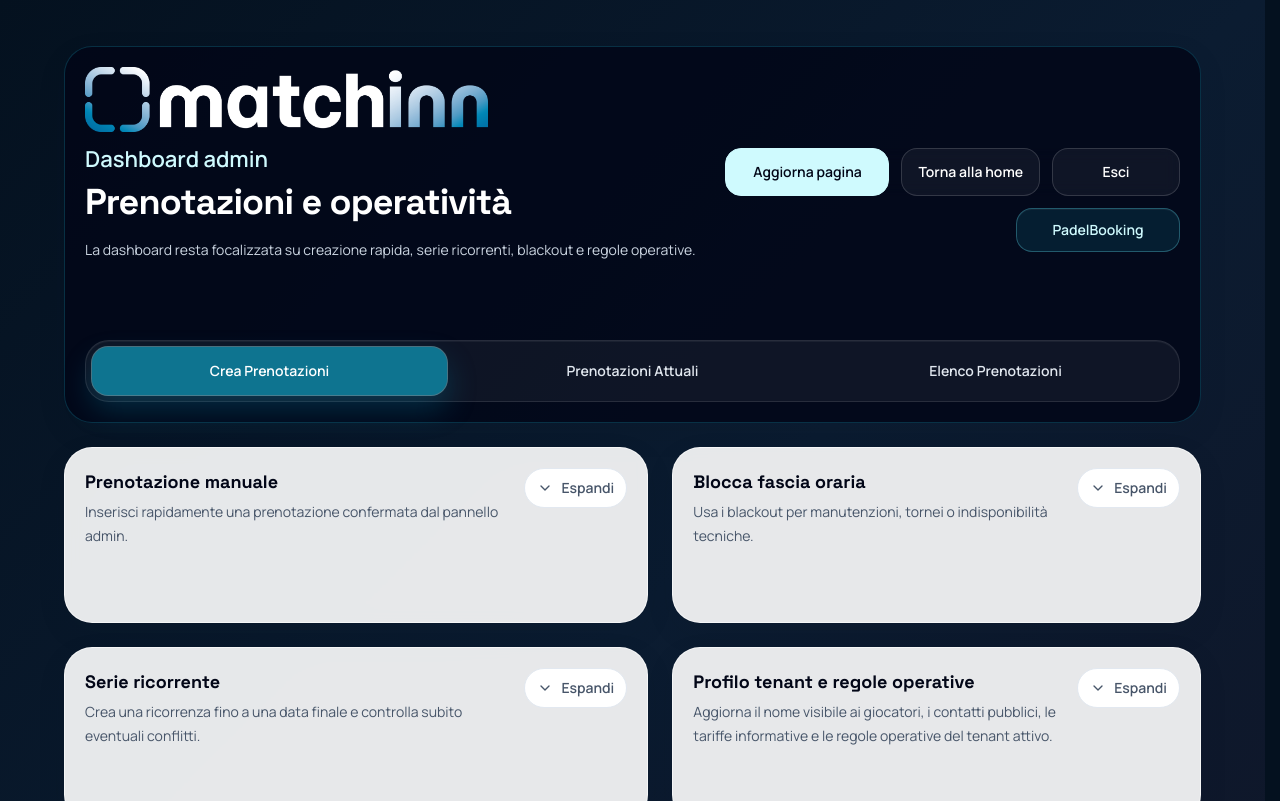
Test case: AdminDashboardPage › lists issued community invites with status and lets admin revoke an active link
Expected: the text "Dashboard admin" is shown, x1=85 y1=144 x2=268 y2=174
Click the button with aria-label "Espandi Profilo tenant e regole operative" at (1129, 688), box x1=1077 y1=668 x2=1180 y2=708
(page scrolled)
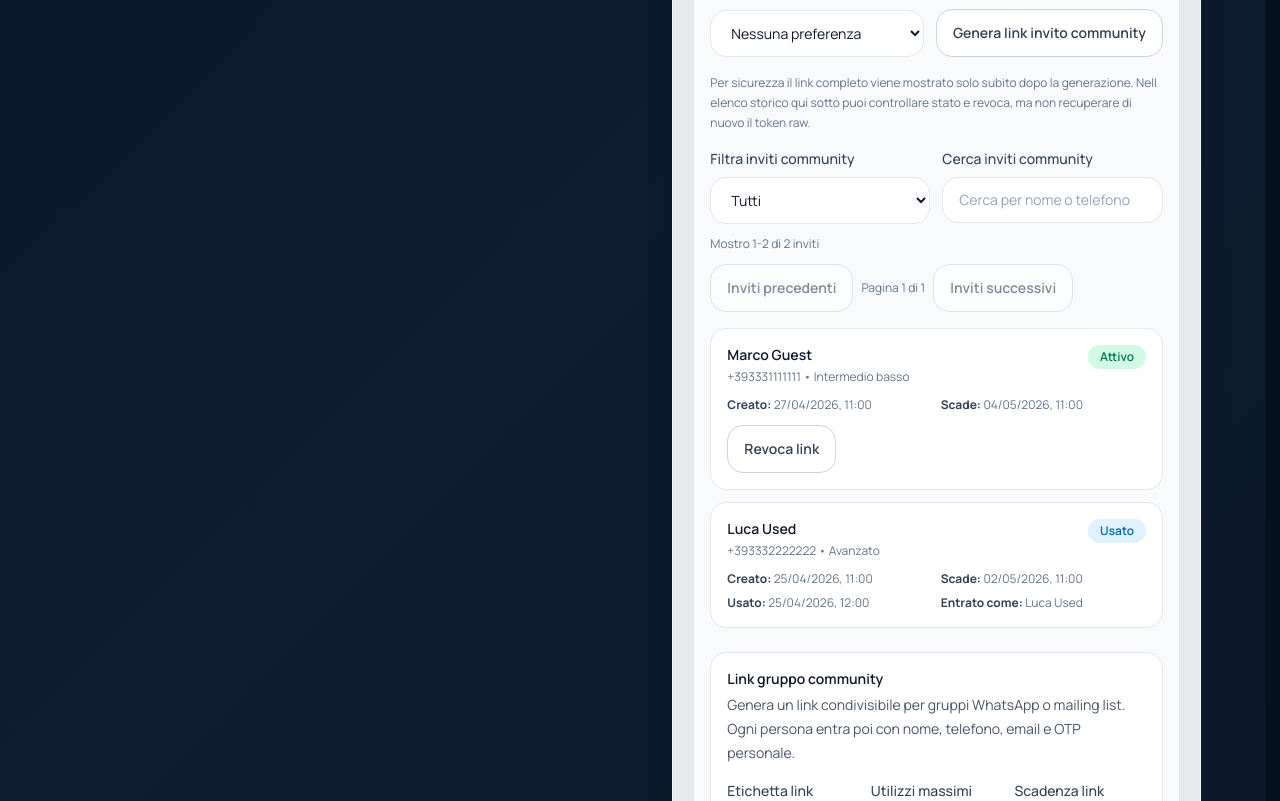
Expected: the text "Marco Guest" is shown, x1=727 y1=345 x2=812 y2=364
Expected: the text "Luca Used" is shown, x1=727 y1=519 x2=796 y2=538
Expected: the text "Attivo" is shown, x1=1088 y1=345 x2=1146 y2=369
Click the button with aria-label "Revoca link Marco Guest" at (782, 449), box x1=727 y1=425 x2=836 y2=473
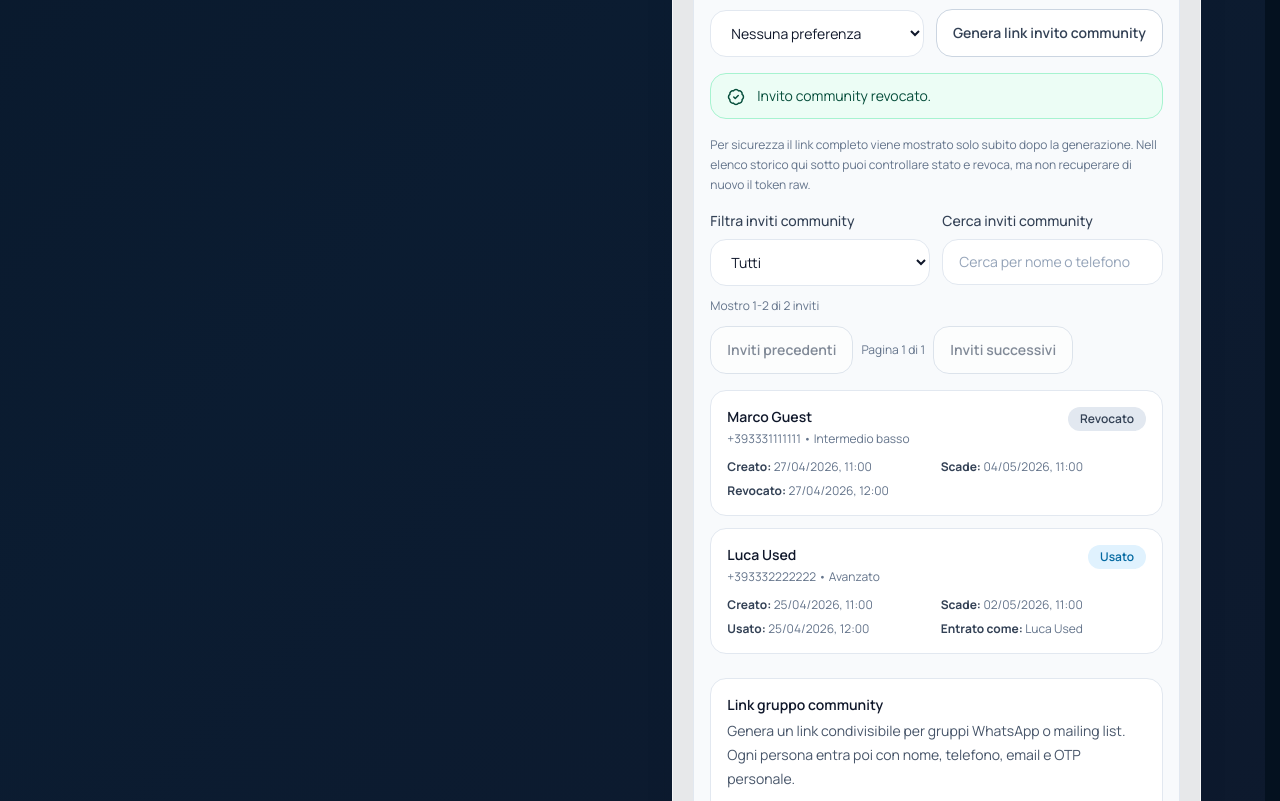
Expected: the text "Marco Guest" is shown, x1=727 y1=407 x2=812 y2=426
Expected: the text "Invito community revocato." is shown, x1=757 y1=86 x2=931 y2=106
Expected: the text "Revocato" is shown, x1=1068 y1=407 x2=1146 y2=431
